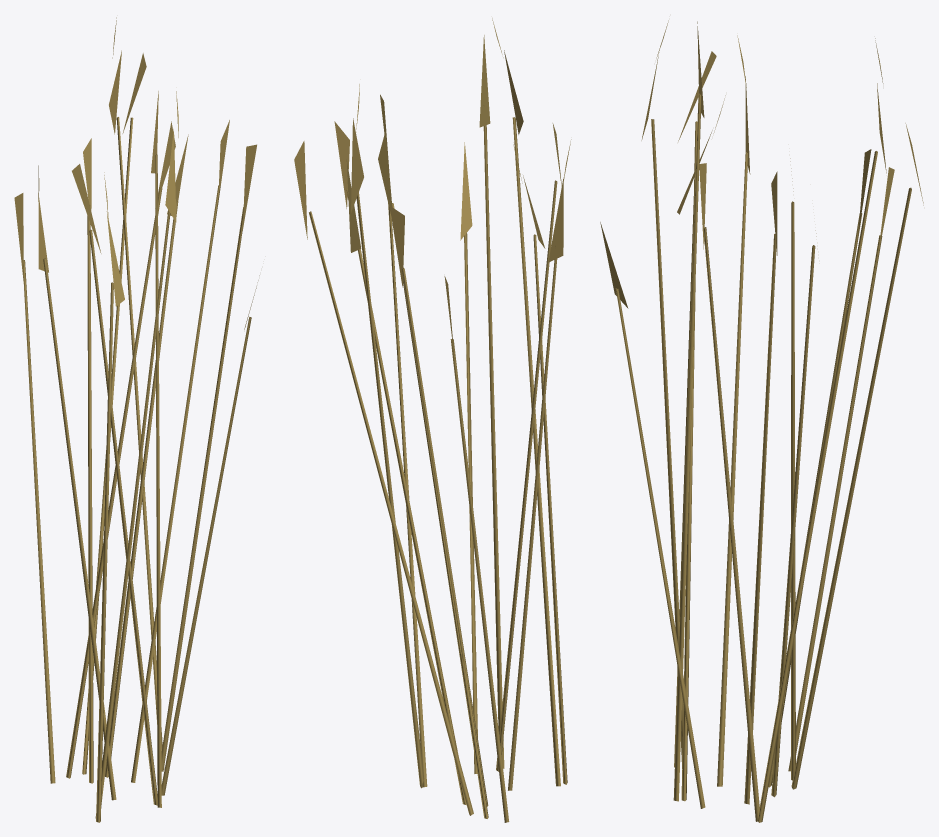
Rendered from trigo_2.glb.
3 views of the same model, side by side, from view 1: azimuth 30°, elevation 25°; view 2: azimuth 150°, elevation 25°; view 3: azimuth 270°, elevation 25° (orthographic). The views are drawn at different scales.
Parts seen in each view (by area): view 1: trigo_2.001; view 2: trigo_2.001; view 3: trigo_2.001.
Boxes of the visible parts, x1=… form: trigo_2.001: x1=14, y1=17, x2=259, y2=822; trigo_2.001: x1=294, y1=18, x2=571, y2=822; trigo_2.001: x1=600, y1=20, x2=923, y2=822.
Size of the model in its own units: 0.3867 by 1.27 by 0.47.
